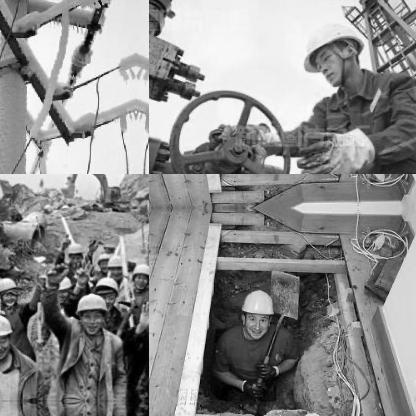Helmet: (294, 9, 370, 91), (234, 282, 278, 336), (73, 290, 107, 332), (92, 275, 120, 303), (0, 308, 13, 360), (129, 261, 148, 290), (104, 253, 126, 277), (48, 274, 70, 298), (0, 276, 18, 305), (65, 240, 85, 264)
